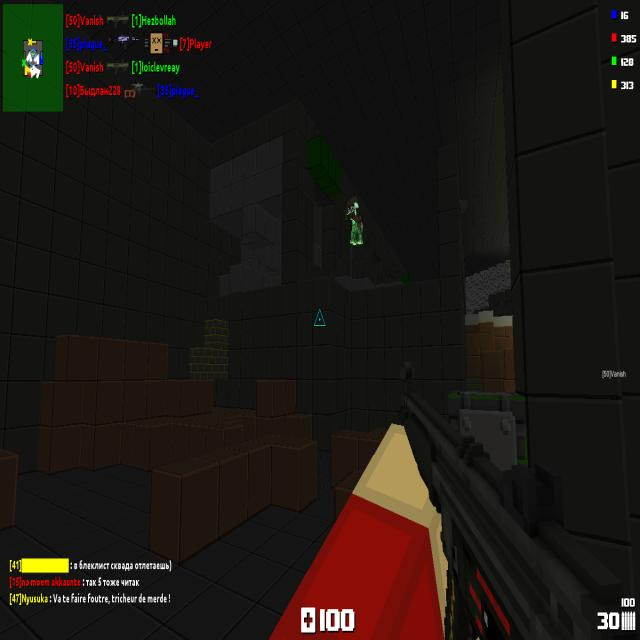enemy: (343, 193, 363, 245)
